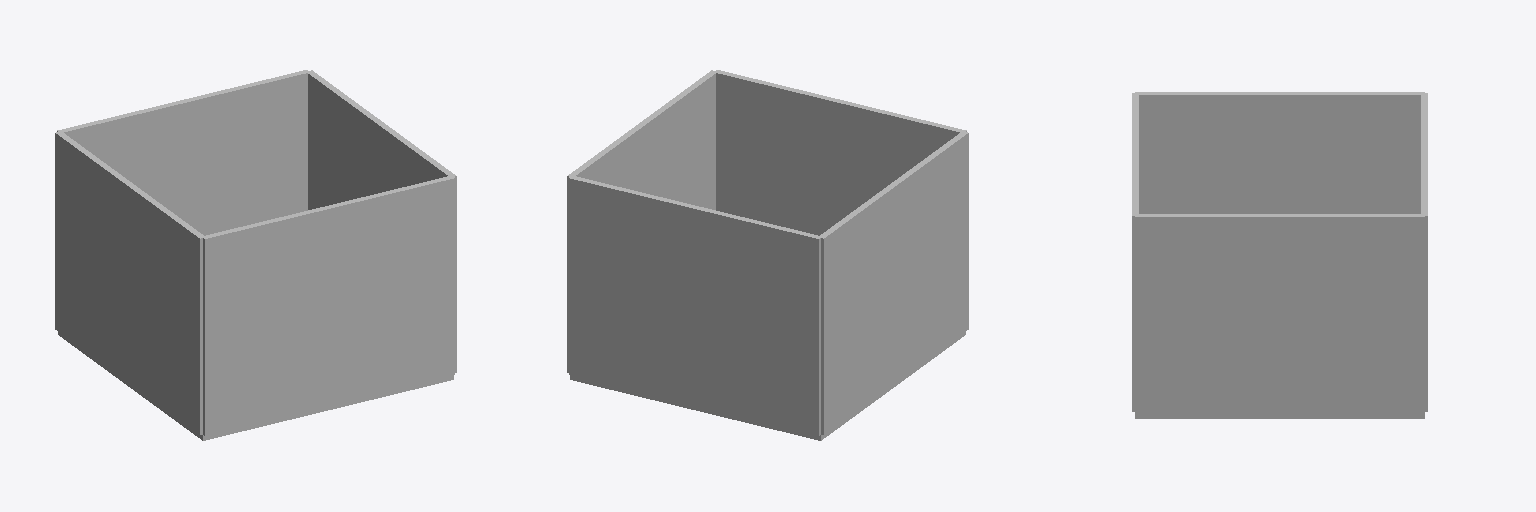
The model's file is test_level_empty_notex.obj.
The picture shows the model from 3 angles: view 1: azimuth 30°, elevation 25°; view 2: azimuth 150°, elevation 25°; view 3: azimuth 270°, elevation 25°; orthographic projection.
Visible parts, largest first — view 1: Cube.002_Cube.008, Cube.003_Cube.009, Cube.001_Cube.007, Cube.004_Cube.010, Cube; view 2: Cube.001_Cube.007, Cube.003_Cube.009, Cube.002_Cube.008, Cube.004_Cube.010, Cube; view 3: Cube.004_Cube.010, Cube.003_Cube.009, Cube, Cube.002_Cube.008, Cube.001_Cube.007.
Boxes of the visible parts, box(x1,y1,x2,y2) form: Cube.002_Cube.008: box(202, 176, 454, 435); Cube.003_Cube.009: box(55, 132, 203, 434); Cube.001_Cube.007: box(57, 70, 307, 235); Cube.004_Cube.010: box(307, 70, 456, 372); Cube: box(58, 332, 453, 440); Cube.001_Cube.007: box(569, 176, 821, 435); Cube.003_Cube.009: box(819, 132, 968, 434); Cube.002_Cube.008: box(714, 70, 966, 235); Cube.004_Cube.010: box(567, 70, 716, 372); Cube: box(570, 332, 965, 440); Cube.004_Cube.010: box(1135, 214, 1424, 413); Cube.003_Cube.009: box(1135, 92, 1424, 213); Cube: box(1135, 414, 1424, 418); Cube.002_Cube.008: box(1132, 93, 1138, 411); Cube.001_Cube.007: box(1421, 93, 1427, 411).
Bounding box in the file's own units: 41 × 31 × 41.